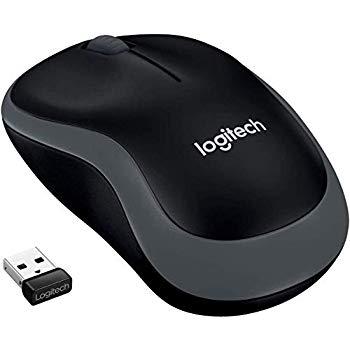logitech-mouse-m185: (1, 33, 340, 327)
